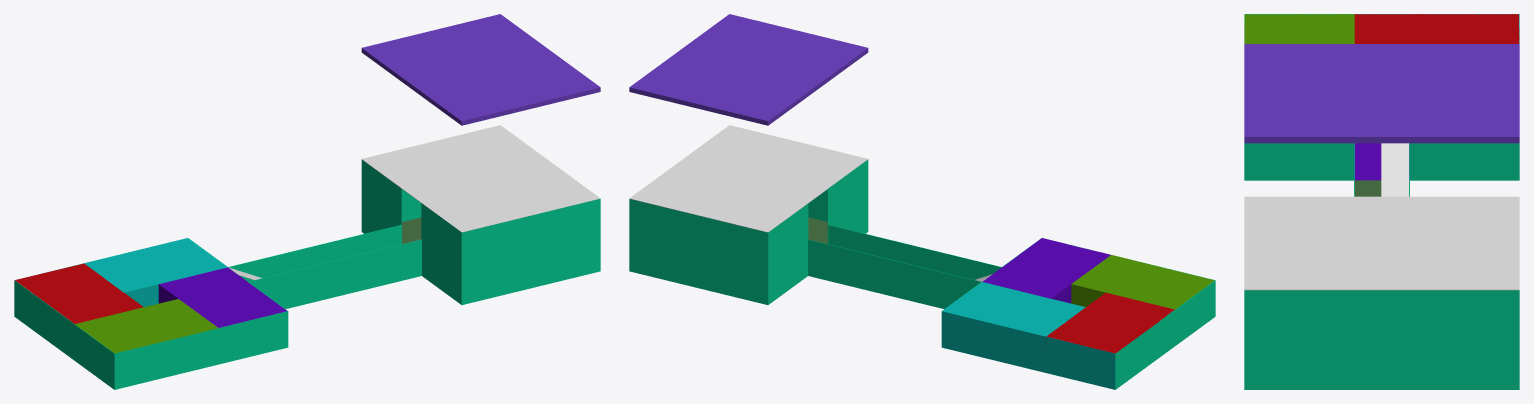
Rendered from walls5.glb.
3 renders of one model, left to right at view 1: azimuth 30°, elevation 25°; view 2: azimuth 150°, elevation 25°; view 3: azimuth 270°, elevation 25°, orthographic. The views are drawn at different scales.
Parts seen in each view (by area): view 1: Cube.006, Cube.001, Cube.005, Cube.018, Cube.008, FloorBaseGrass_01.004, FloorBaseGrass_01.003, FloorBaseGrass_01.001, FloorBaseGrass_01.002, Cube.015, Cube.002, Cube.009 (+2 smaller); view 2: Cube.006, Cube.001, Cube.003, Cube.014, Cube.002, FloorBaseGrass_01.004, FloorBaseGrass_01.002, FloorBaseGrass_01.003, FloorBaseGrass_01.001, Cube.015, Cube.008, Cube.007 (+2 smaller); view 3: Cube.006, Cube.004, Cube.001, FloorBaseGrass_01.002, Cube.012, Cube.016, FloorBaseGrass_01.004, Cube, FloorBaseGrass_01.006, FloorBaseGrass_01.
Part boxes in pixels (left/top/right/bottom): Cube.006: left=361, top=14, right=600, bottom=125; Cube.001: left=361, top=125, right=600, bottom=232; Cube.005: left=461, top=198, right=600, bottom=304; Cube.018: left=114, top=311, right=288, bottom=389; Cube.008: left=248, top=239, right=421, bottom=308; FloorBaseGrass_01.004: left=75, top=299, right=218, bottom=353; FloorBaseGrass_01.003: left=84, top=238, right=227, bottom=292; FloorBaseGrass_01.001: left=159, top=267, right=287, bottom=327; FloorBaseGrass_01.002: left=15, top=263, right=142, bottom=323; Cube.015: left=14, top=280, right=114, bottom=389; Cube.002: left=228, top=225, right=401, bottom=281; Cube.009: left=421, top=203, right=461, bottom=304; Cube.006: left=629, top=14, right=868, bottom=125; Cube.001: left=629, top=125, right=867, bottom=232; Cube.003: left=629, top=199, right=768, bottom=304; Cube.014: left=942, top=311, right=1115, bottom=389; Cube.002: left=808, top=239, right=981, bottom=308; FloorBaseGrass_01.004: left=1071, top=255, right=1214, bottom=309; FloorBaseGrass_01.002: left=1046, top=292, right=1174, bottom=353; FloorBaseGrass_01.003: left=942, top=282, right=1085, bottom=336; FloorBaseGrass_01.001: left=982, top=238, right=1110, bottom=298; Cube.015: left=1115, top=280, right=1215, bottom=389; Cube.008: left=828, top=225, right=1001, bottom=279; Cube.007: left=768, top=204, right=808, bottom=304; Cube.006: left=1244, top=44, right=1519, bottom=143; Cube.004: left=1244, top=290, right=1519, bottom=389; Cube.001: left=1244, top=196, right=1519, bottom=290; FloorBaseGrass_01.002: left=1354, top=14, right=1519, bottom=43; Cube.012: left=1410, top=143, right=1519, bottom=180; Cube.016: left=1244, top=143, right=1353, bottom=180; FloorBaseGrass_01.004: left=1244, top=14, right=1353, bottom=43; Cube: left=1381, top=143, right=1408, bottom=196; FloorBaseGrass_01.006: left=1354, top=143, right=1409, bottom=180; FloorBaseGrass_01: left=1354, top=180, right=1409, bottom=196.
Size of what is drawn, in the model's own units: 224 by 81.25 by 80.
28 materials, 2 textured.
